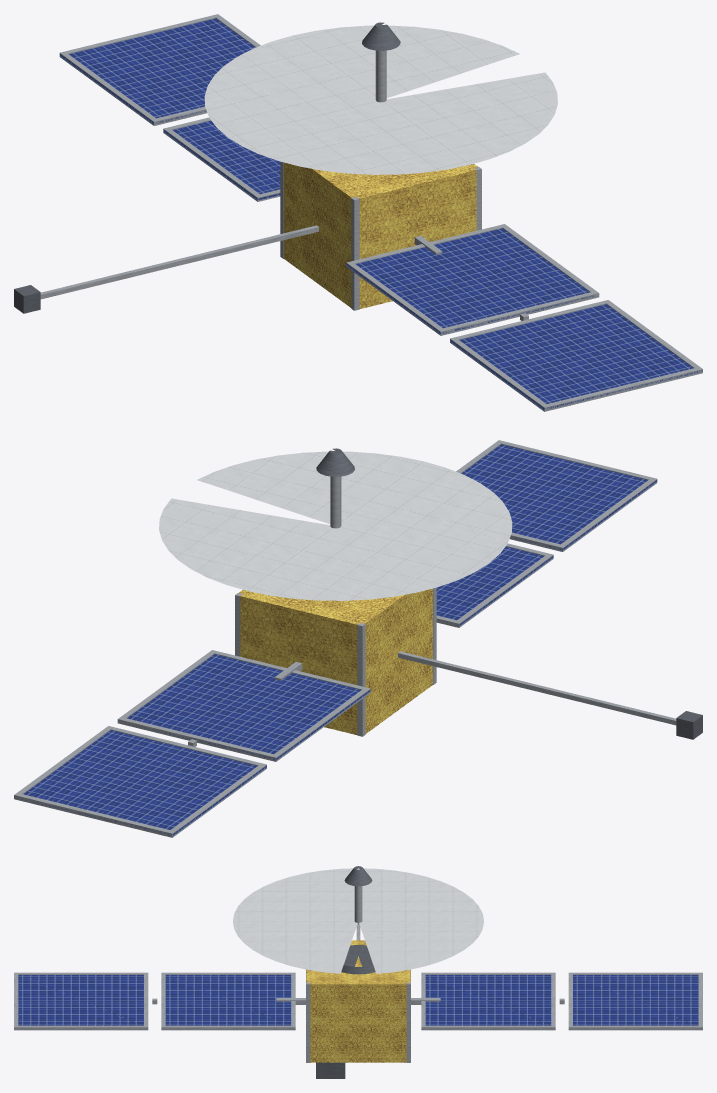
Rendered from probe.glb.
The picture shows the model from 3 angles, top to bottom: view 1: azimuth 30°, elevation 25°; view 2: azimuth 150°, elevation 25°; view 3: azimuth 270°, elevation 25°; orthographic projection. The views are drawn at different scales.
Bounding box in the file's own units: 4.88 × 2.41 × 7.95.
Materials: 6 (6 with a texture image).
